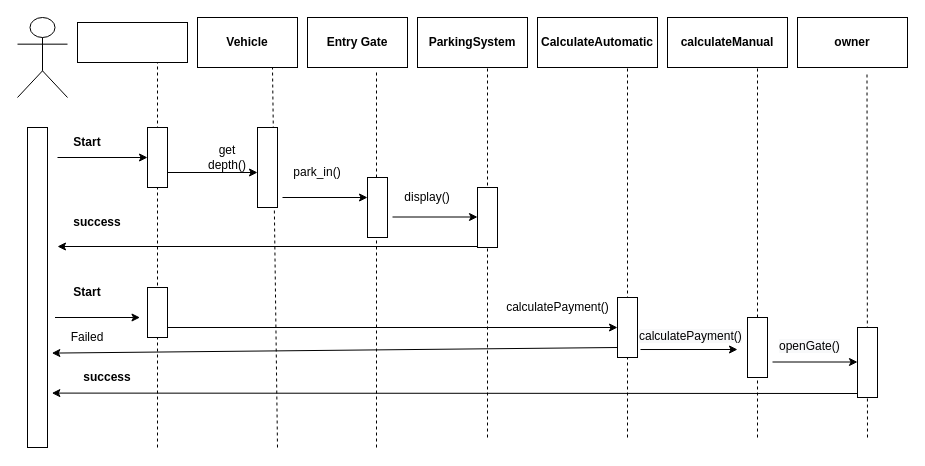
The diagram is 925 pixels wide and 466 high, and some of its shapes have lost their labels. The centre of each missing label's shape, as x and y in pixels:
"Driver" goes at (42,57).
"Screen Boundry" goes at (132,42).
